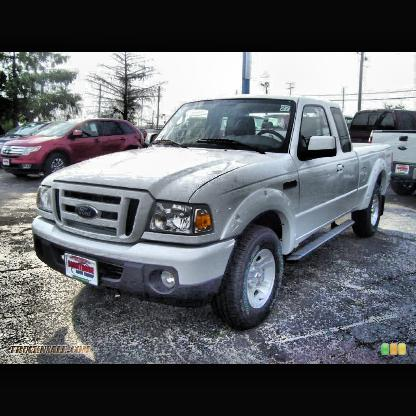Ford Ranger SuperCab 2011: (35, 95, 396, 324)
